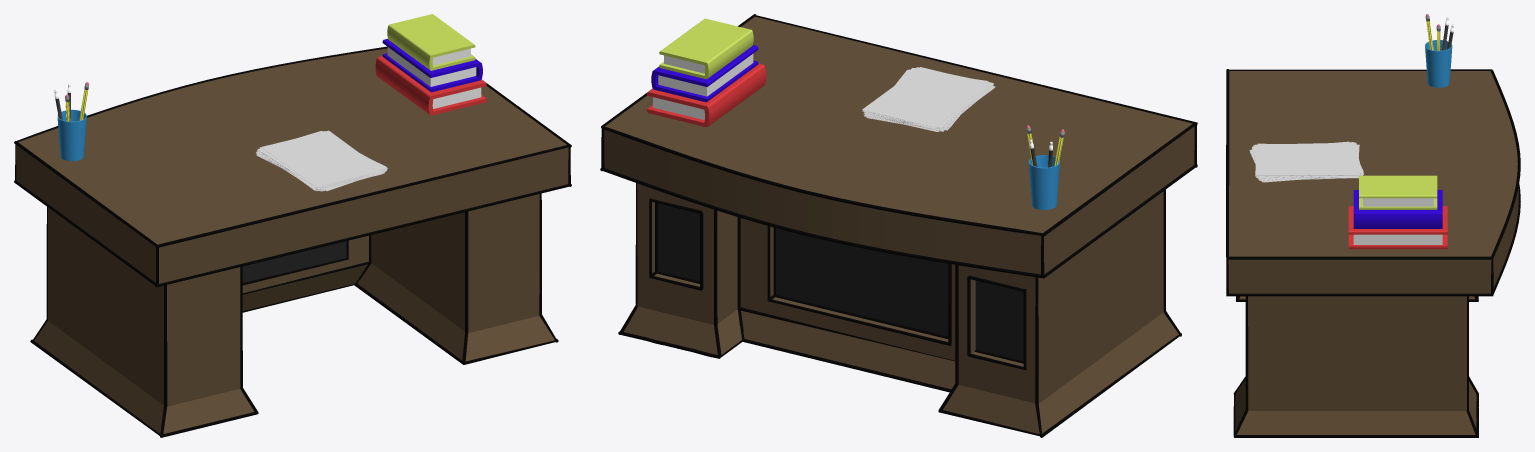
Rendered from 4th-Level Doctor Table With Outline.fbx.
3 views of the same model, side by side, from view 1: azimuth 30°, elevation 25°; view 2: azimuth 150°, elevation 25°; view 3: azimuth 270°, elevation 25° (orthographic). The views are drawn at different scales.
Parts seen in each view (by area): view 1: Table; view 2: Table; view 3: Table.
Part boxes in pixels (bbox=[...]): Table: bbox=[14, 14, 571, 437]; Table: bbox=[600, 14, 1197, 437]; Table: bbox=[1226, 14, 1520, 437].
Size of the model in its own units: 442 by 273 by 292.
